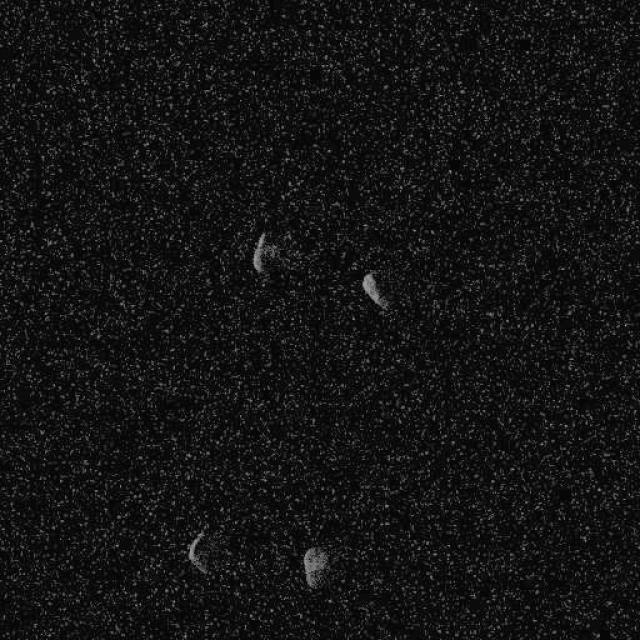D2: (301, 545, 329, 589), (360, 270, 390, 310), (186, 530, 210, 576), (252, 231, 268, 274)
